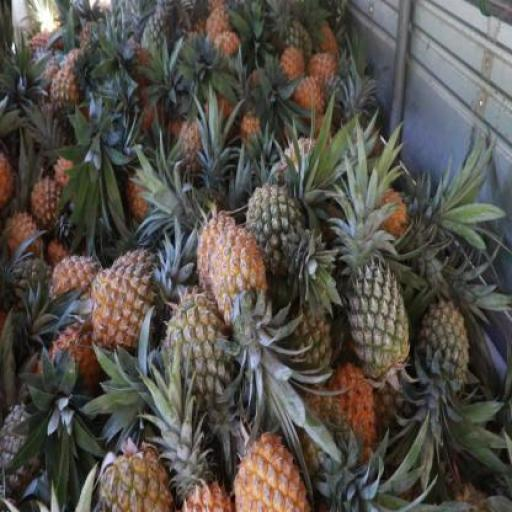------------------------------: (159, 298, 231, 408), (246, 185, 310, 284), (97, 443, 169, 512), (48, 70, 81, 129)
Pineapple - v8 v1: (90, 252, 160, 354), (233, 428, 310, 511), (213, 228, 274, 330), (198, 215, 246, 304), (53, 254, 100, 315), (30, 174, 68, 228)
